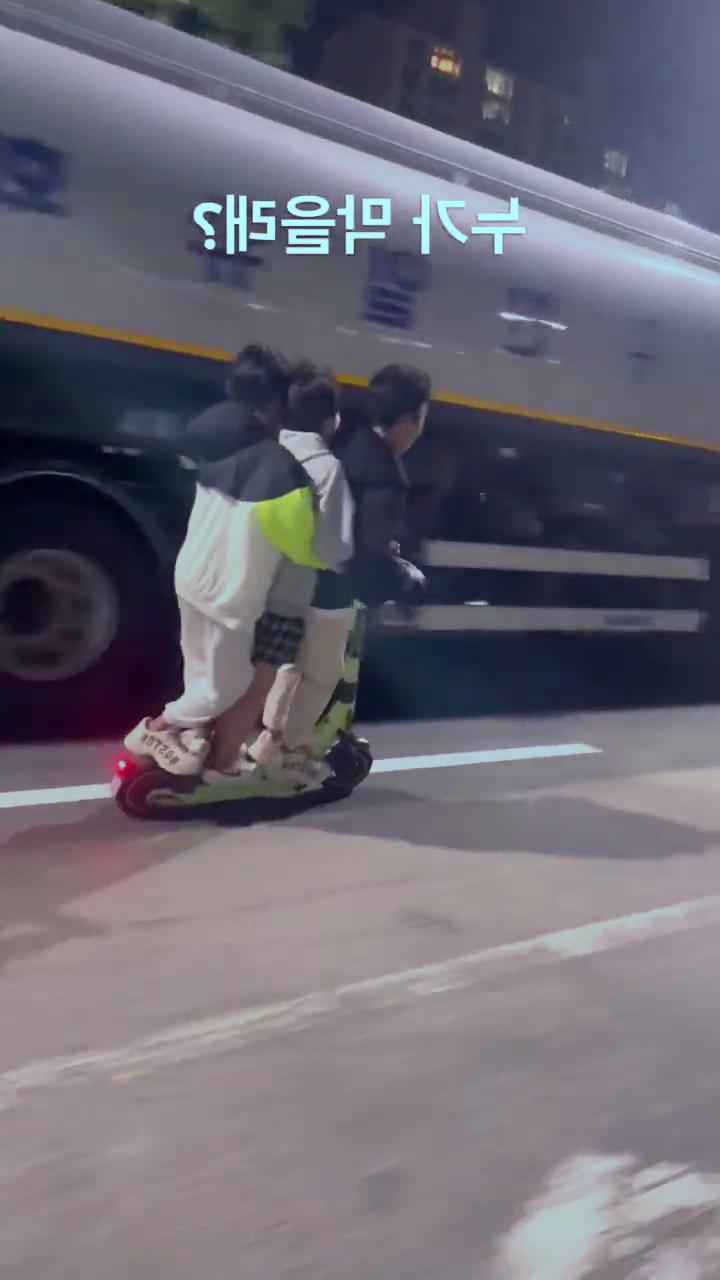multiple: (87, 341, 442, 834)
